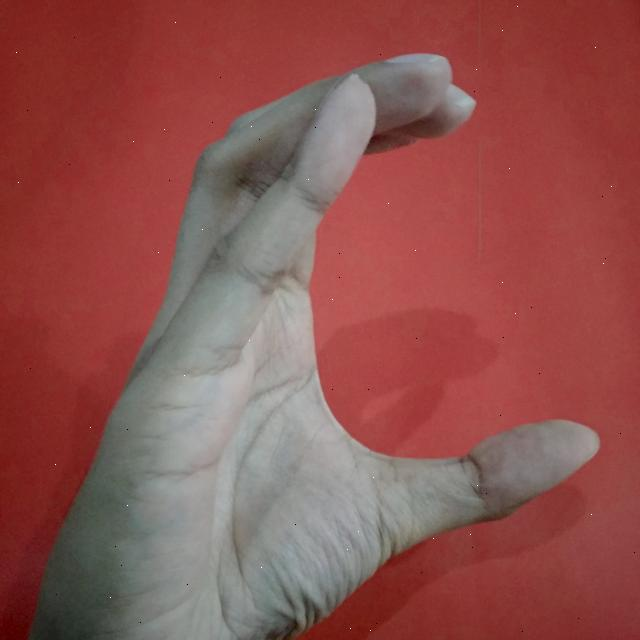C: (26, 50, 607, 640)
